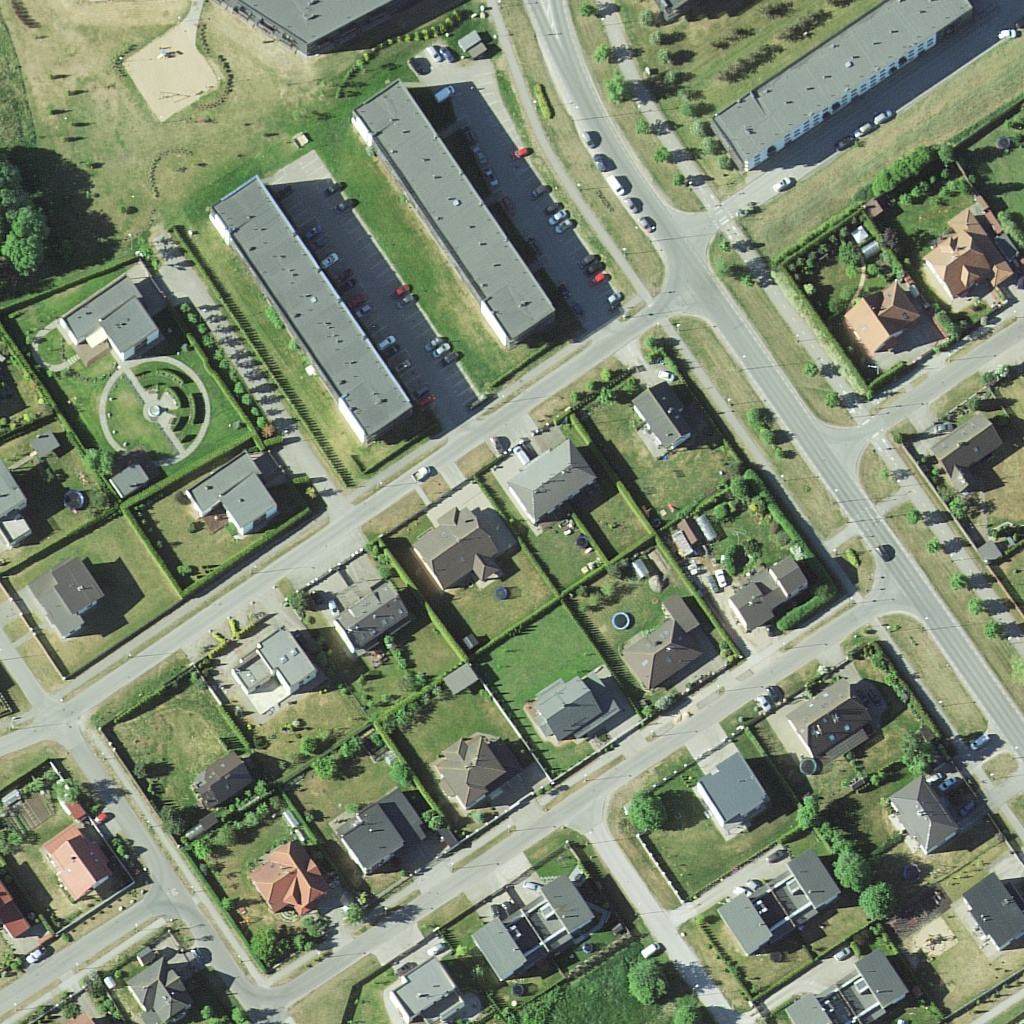building: (342, 76, 558, 349), (208, 175, 412, 450), (706, 6, 974, 178), (921, 206, 1020, 300), (60, 279, 167, 360), (338, 788, 435, 873), (527, 663, 620, 745), (181, 447, 276, 527), (622, 592, 704, 683), (218, 625, 314, 702), (417, 503, 499, 592), (47, 805, 116, 904), (325, 566, 407, 647), (701, 746, 769, 841), (796, 673, 874, 754), (516, 440, 595, 518), (436, 728, 512, 803), (891, 777, 962, 856), (248, 847, 340, 907), (726, 557, 801, 628), (927, 410, 1000, 481), (634, 372, 694, 457), (38, 563, 108, 635), (843, 286, 923, 349), (120, 943, 188, 1017), (718, 877, 779, 950), (389, 967, 465, 1024), (470, 903, 524, 983), (783, 843, 843, 913), (848, 941, 912, 1005), (539, 857, 592, 931), (966, 872, 1021, 939), (191, 755, 253, 810)
